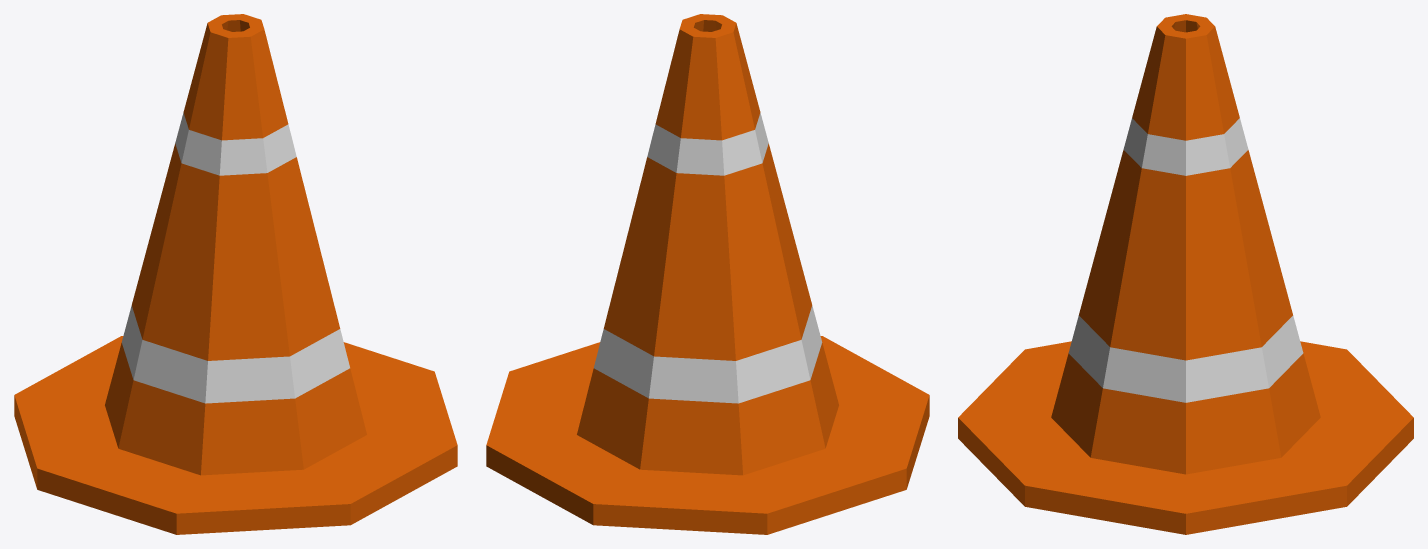
The model's file is Traffic_Cone.fbx.
The picture shows the model from 3 angles, left to right: view 1: azimuth 30°, elevation 25°; view 2: azimuth 150°, elevation 25°; view 3: azimuth 270°, elevation 25°; orthographic projection.
Parts seen in each view (by area): view 1: TrafficCone; view 2: TrafficCone; view 3: TrafficCone.
Part boxes in pixels (x1,y1,x2,y2): TrafficCone: [14, 14, 457, 534]; TrafficCone: [486, 14, 929, 534]; TrafficCone: [958, 14, 1413, 534].
Bounding box in the file's own units: 241 × 241 × 241.
